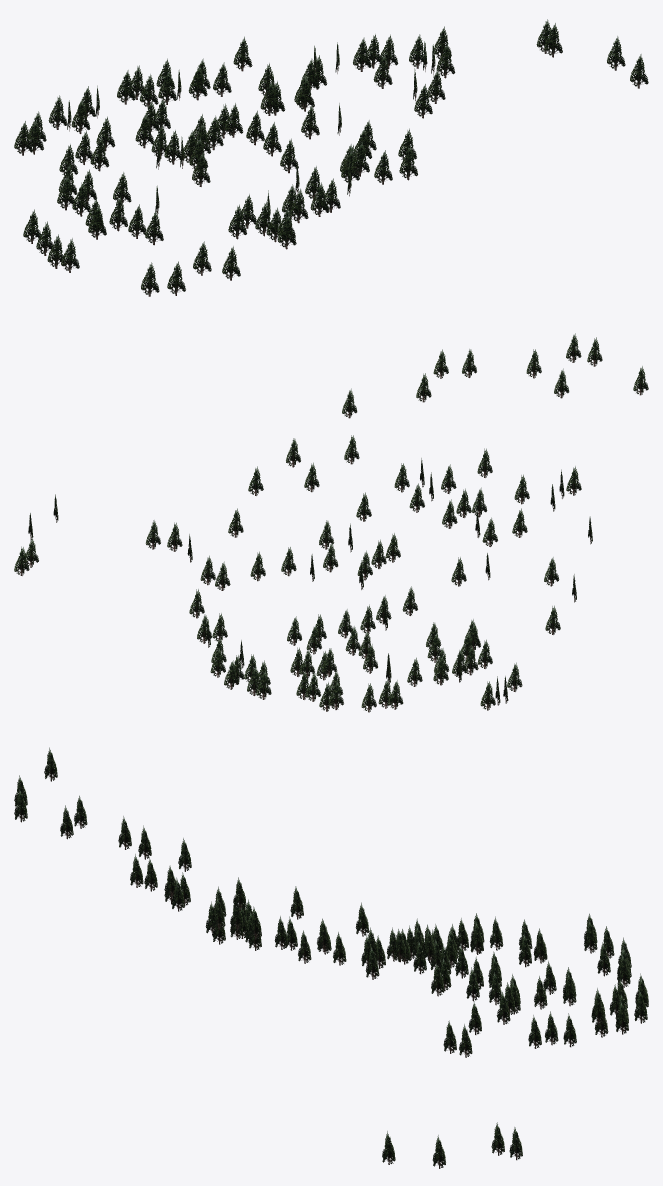
File: RM_PLAYSURFACE_FINAL_INST_PINE_LOD1_168.fbx
The picture shows the model from 3 angles, top to bottom: view 1: azimuth 30°, elevation 25°; view 2: azimuth 150°, elevation 25°; view 3: azimuth 270°, elevation 25°; orthographic projection. The views are drawn at different scales.
Parts seen in each view (by area): view 1: RM_PLAYSURFACE_FINAL_INST_PINE_LOD1_168; view 2: RM_PLAYSURFACE_FINAL_INST_PINE_LOD1_168; view 3: RM_PLAYSURFACE_FINAL_INST_PINE_LOD1_168.
Boxes of the visible parts, <box> form: RM_PLAYSURFACE_FINAL_INST_PINE_LOD1_168: <box>14,19,648,296</box>; RM_PLAYSURFACE_FINAL_INST_PINE_LOD1_168: <box>14,333,648,712</box>; RM_PLAYSURFACE_FINAL_INST_PINE_LOD1_168: <box>14,747,648,1168</box>.
Size of the model in its own units: 907999 by 385248 by 907802.
Materials: 1 (1 with a texture image).
